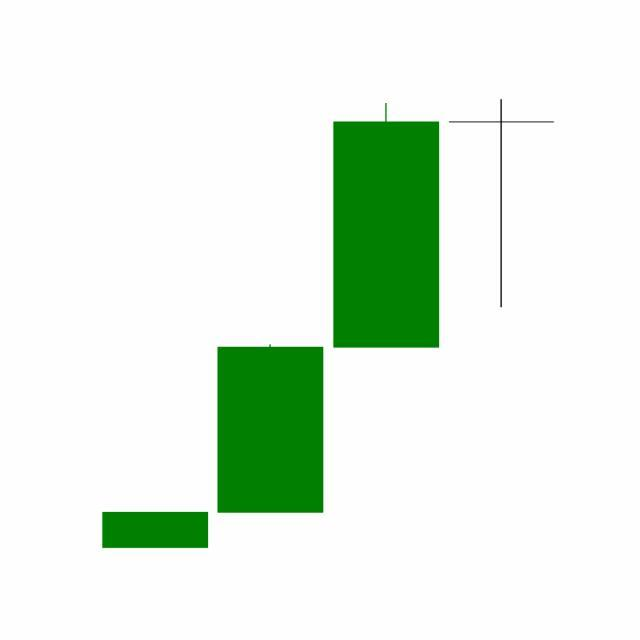Spinning Top: (444, 98, 560, 312)
